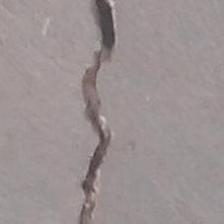Crack: (30, 1, 214, 224)
